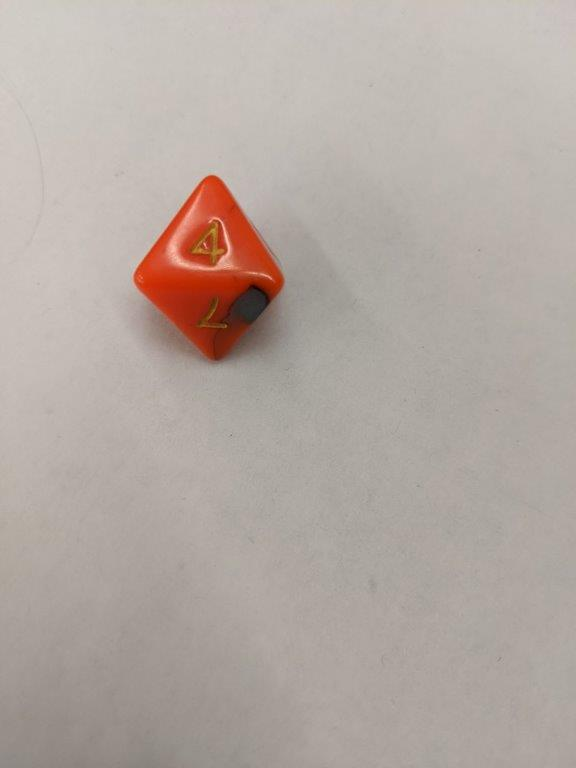d8-4: (132, 174, 287, 363)
